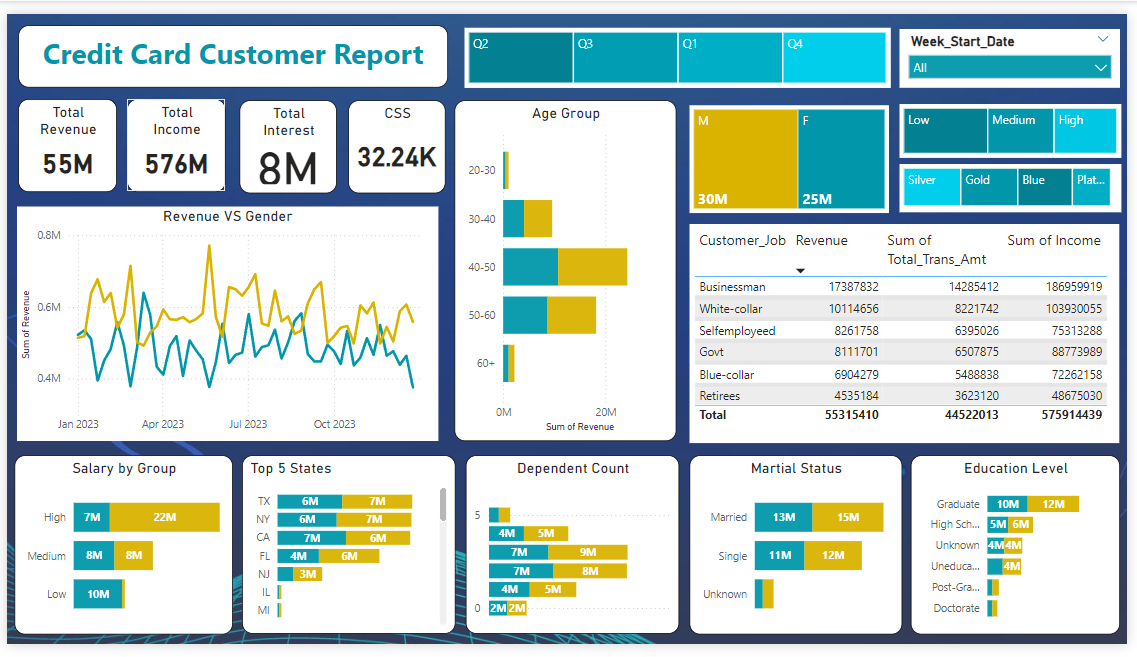

The page's visual inventory and layout, read from the dashboard file:
{"tool":"powerbi","page":{"name":"CC Customer","canvas":[1280,720],"ordinal":1},"visuals":[{"type":"card","title":"Total Revenue","fields":{"Values":["Sum(cc_detail.Revenue)"]},"box":[13.1,97.1,112.9,106.3],"z":0},{"type":"card","title":"Total Interest","fields":{"Values":["Sum(cc_detail.Interest_Earned)"]},"box":[265.1,98.4,111.6,106.3],"z":1000},{"type":"card","title":"Total Income","fields":{"Values":["Sum(customer.Income)"]},"box":[137.8,97.1,112.9,106.3],"z":2000},{"type":"card","title":"CSS","fields":{"Values":["Sum(customer.Cust_Satisfaction_Score)"]},"box":[389.8,98.4,111.6,106.3],"z":3000},{"type":"tableEx","fields":{"Values":["customer.Customer_Job","Sum(cc_detail.Revenue)","Sum(cc_detail.Total_Trans_Amt)","Sum(customer.Income)"]},"box":[779.7,240.2,490.9,250.7],"z":4000},{"type":"textbox","box":[12.9,12.9,491.4,71.4],"z":5000},{"type":"treemap","fields":{"Group":["cc_detail.Qtr"],"Values":["CountNonNull(cc_detail.Client_Num)"]},"box":[522.9,15.7,487.1,68.6],"z":6000},{"type":"slicer","fields":{"Values":["cc_detail.Week_Start_Date"]},"box":[1020.5,17.2,252.4,67.4],"z":7000},{"type":"treemap","fields":{"Group":["customer.IncomeGroup"],"Values":["CountNonNull(cc_detail.Client_Num)"]},"box":[1020,103.3,253.3,61.7],"z":8000},{"type":"treemap","fields":{"Values":["CountNonNull(cc_detail.Client_Num)"],"Details":["cc_detail.Card_Category"]},"box":[1019.9,171.9,253.3,55.1],"z":9000},{"type":"lineChart","title":" Revenue VS Gender","fields":{"Y":["Sum(cc_detail.Revenue)"],"Series":["customer.Gender"],"Category":["cc_detail.Week_Start_Date.Variation.Date Hierarchy.Year","cc_detail.Week_Start_Date.Variation.Date Hierarchy.Month","cc_detail.Week_Start_Date.Variation.Date Hierarchy.Day"]},"box":[11.8,220.5,481.7,267.8],"z":10000},{"type":"treemap","fields":{"Group":["customer.Gender"],"Values":["Sum(cc_detail.Revenue)"]},"box":[779.7,103.7,228.4,123.4],"z":11000},{"type":"barChart","title":"Salary by Group","fields":{"Y":["Sum(cc_detail.Revenue)"],"Category":["customer.IncomeGroup"],"Series":["customer.Gender"]},"box":[9.2,504,249.4,204.8],"z":12000},{"type":"barChart","title":"Age Group","fields":{"Y":["Sum(cc_detail.Revenue)"],"Category":["customer.AgeGroup"],"Series":["customer.Gender"]},"box":[511.9,98.4,253.3,389.8],"z":13000},{"type":"barChart","title":"Top 5 States","fields":{"Y":["Sum(cc_detail.Revenue)"],"Series":["customer.Gender"],"Category":["customer.state_cd"]},"box":[268.6,504.3,244.3,204.3],"z":14000},{"type":"barChart","title":"Dependent Count","fields":{"Y":["Sum(cc_detail.Revenue)"],"Category":["customer.Dependent_Count"],"Series":["customer.Gender"]},"box":[524.3,504.3,244.3,204.3],"z":15000},{"type":"barChart","title":"Martial Status","fields":{"Y":["Sum(cc_detail.Revenue)"],"Category":["customer.Marital_Status"],"Series":["customer.Gender"]},"box":[779.7,504,242.8,204.8],"z":16000},{"type":"barChart","title":"Education Level","fields":{"Y":["Sum(cc_detail.Revenue)"],"Category":["customer.Education_Level"],"Series":["customer.Gender"]},"box":[1033,504,238.9,204.8],"z":17000}]}

Visuals, with their boxes in screenshot pixels (x1, y1, x2, y2), scaled from the page's 1280x720 canvas onto the 1137x657 screenshot:
"Total Revenue" card: <region>12, 89, 112, 186</region>
"Total Interest" card: <region>235, 90, 335, 187</region>
"Total Income" card: <region>122, 89, 223, 186</region>
"CSS" card: <region>346, 90, 445, 187</region>
tableEx - customer.Customer_Job x Sum(cc_detail.Revenue): <region>693, 219, 1129, 448</region>
textbox: <region>11, 12, 448, 77</region>
treemap - cc_detail.Qtr x CountNonNull(cc_detail.Client_Num): <region>464, 14, 897, 77</region>
slicer - cc_detail.Week_Start_Date: <region>906, 16, 1131, 77</region>
treemap - customer.IncomeGroup x CountNonNull(cc_detail.Client_Num): <region>906, 94, 1131, 151</region>
treemap - CountNonNull(cc_detail.Client_Num) x cc_detail.Card_Category: <region>906, 157, 1131, 207</region>
" Revenue VS Gender" lineChart: <region>10, 201, 438, 446</region>
treemap - customer.Gender x Sum(cc_detail.Revenue): <region>693, 95, 895, 207</region>
"Salary by Group" barChart: <region>8, 460, 230, 647</region>
"Age Group" barChart: <region>455, 90, 680, 445</region>
"Top 5 States" barChart: <region>239, 460, 456, 647</region>
"Dependent Count" barChart: <region>466, 460, 683, 647</region>
"Martial Status" barChart: <region>693, 460, 908, 647</region>
"Education Level" barChart: <region>918, 460, 1130, 647</region>
